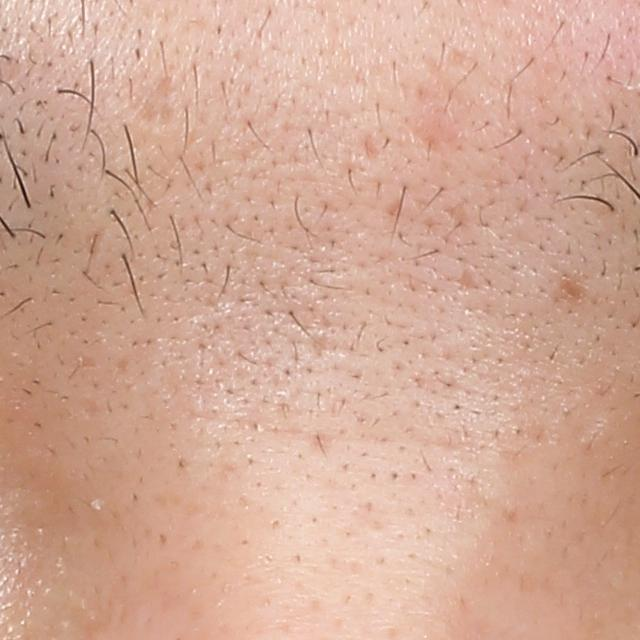atrophic_scar: (136, 73, 179, 129), (362, 128, 378, 159), (455, 269, 477, 290)
